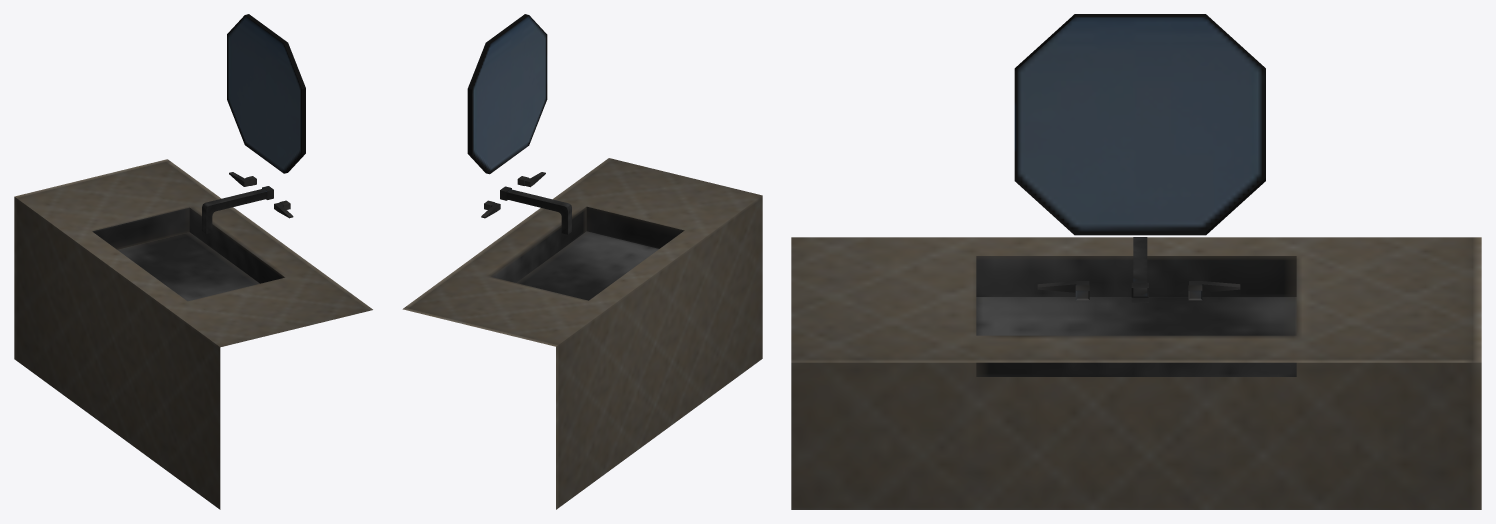
Rendered from Vanity_Set.fbx.
The picture shows the model from 3 angles, left to right: view 1: azimuth 30°, elevation 25°; view 2: azimuth 150°, elevation 25°; view 3: azimuth 270°, elevation 25°; orthographic projection. The views are drawn at different scales.
Visible parts, largest first — view 1: Vanity_Set; view 2: Vanity_Set; view 3: Vanity_Set.
Part boxes in pixels (x1,y1,x2,y2): Vanity_Set: (14, 14, 372, 509); Vanity_Set: (402, 14, 762, 509); Vanity_Set: (791, 14, 1481, 509).
Bounding box in the file's own units: 27.01 × 61.27 × 62.13.
Materials: 1 (1 with a texture image).
